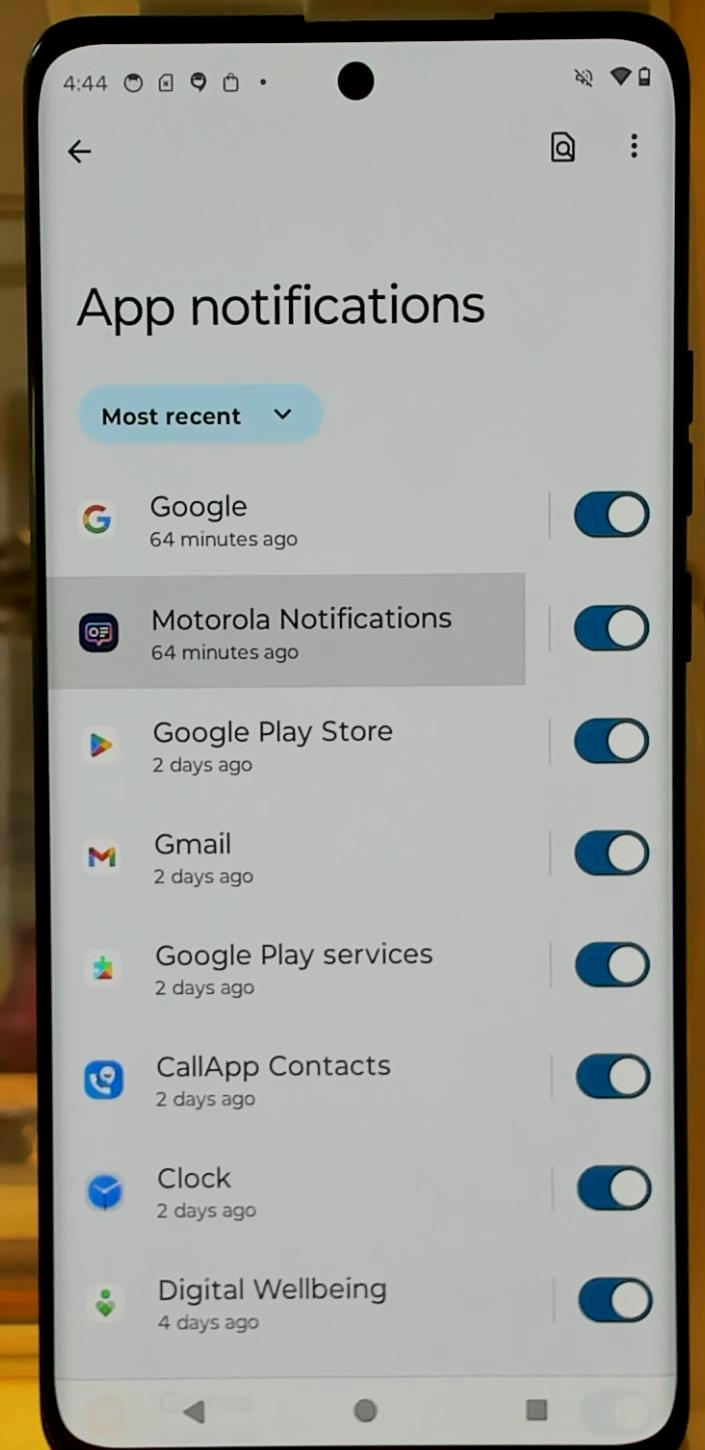Checkbox: (555, 698, 661, 779), (565, 473, 661, 559), (563, 1258, 672, 1333), (565, 1035, 652, 1126), (550, 815, 646, 892), (555, 588, 661, 657), (563, 928, 657, 1004), (568, 1157, 658, 1223)
